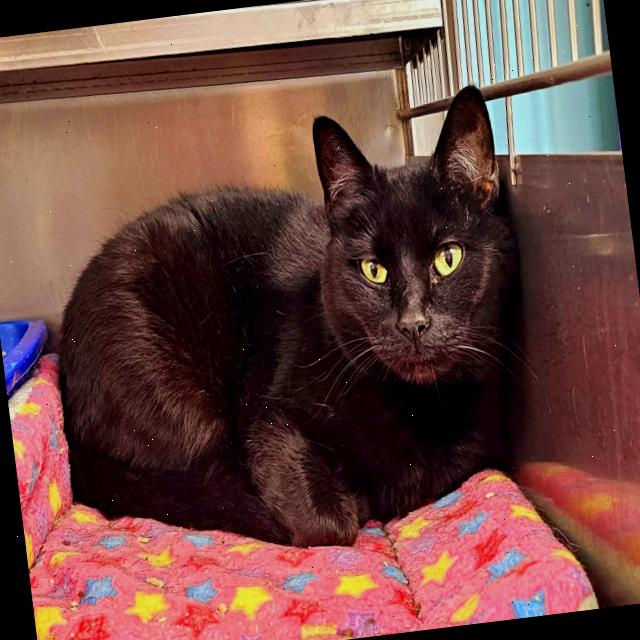bombay_cat: (291, 78, 539, 418)
